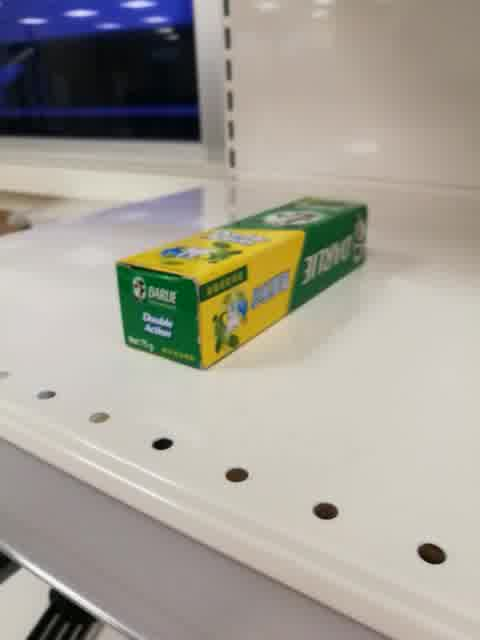toothpaste: (114, 196, 369, 370)
